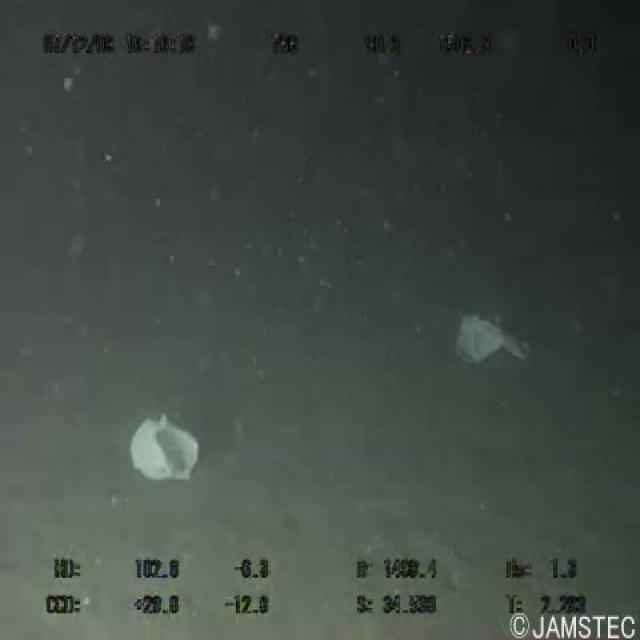plastic: (449, 297, 539, 377), (117, 405, 203, 482)
